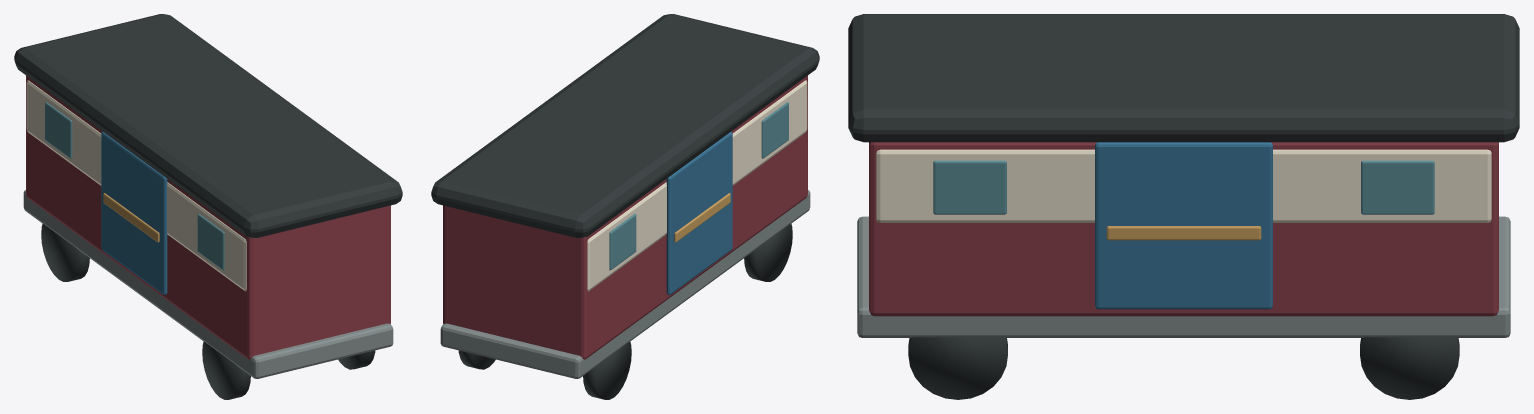
The model's file is coach_mail.glb.
The picture shows the model from 3 angles, left to right: view 1: azimuth 30°, elevation 25°; view 2: azimuth 150°, elevation 25°; view 3: azimuth 270°, elevation 25°; orthographic projection. The views are drawn at different scales.
Visible parts, largest first — view 1: coach_mail_black, coach_mail_maroon, coach_mail_navy, coach_mail_steel, coach_mail_ivory, coach_mail_glass, coach_mail_brass; view 2: coach_mail_black, coach_mail_maroon, coach_mail_navy, coach_mail_steel, coach_mail_ivory, coach_mail_glass, coach_mail_brass; view 3: coach_mail_black, coach_mail_maroon, coach_mail_navy, coach_mail_ivory, coach_mail_steel, coach_mail_glass, coach_mail_brass.
Boxes of the visible parts, <box> form: coach_mail_black: <box>14,14,402,399</box>; coach_mail_maroon: <box>26,75,390,359</box>; coach_mail_navy: <box>101,131,167,294</box>; coach_mail_steel: <box>23,190,393,378</box>; coach_mail_ivory: <box>26,80,246,291</box>; coach_mail_glass: <box>45,102,224,270</box>; coach_mail_brass: <box>103,193,159,242</box>; coach_mail_black: <box>431,14,819,399</box>; coach_mail_maroon: <box>443,75,807,359</box>; coach_mail_navy: <box>666,131,732,294</box>; coach_mail_steel: <box>440,190,810,378</box>; coach_mail_ivory: <box>587,80,807,291</box>; coach_mail_glass: <box>609,102,788,270</box>; coach_mail_brass: <box>674,193,730,242</box>; coach_mail_black: <box>848,14,1519,399</box>; coach_mail_maroon: <box>869,142,1498,316</box>; coach_mail_navy: <box>1095,142,1272,309</box>; coach_mail_ivory: <box>876,149,1491,222</box>; coach_mail_steel: <box>857,216,1510,337</box>; coach_mail_glass: <box>933,160,1434,214</box>; coach_mail_brass: <box>1106,226,1261,240</box>.
Bounding box in the file's own units: 2.15 × 2.7 × 5.65.
